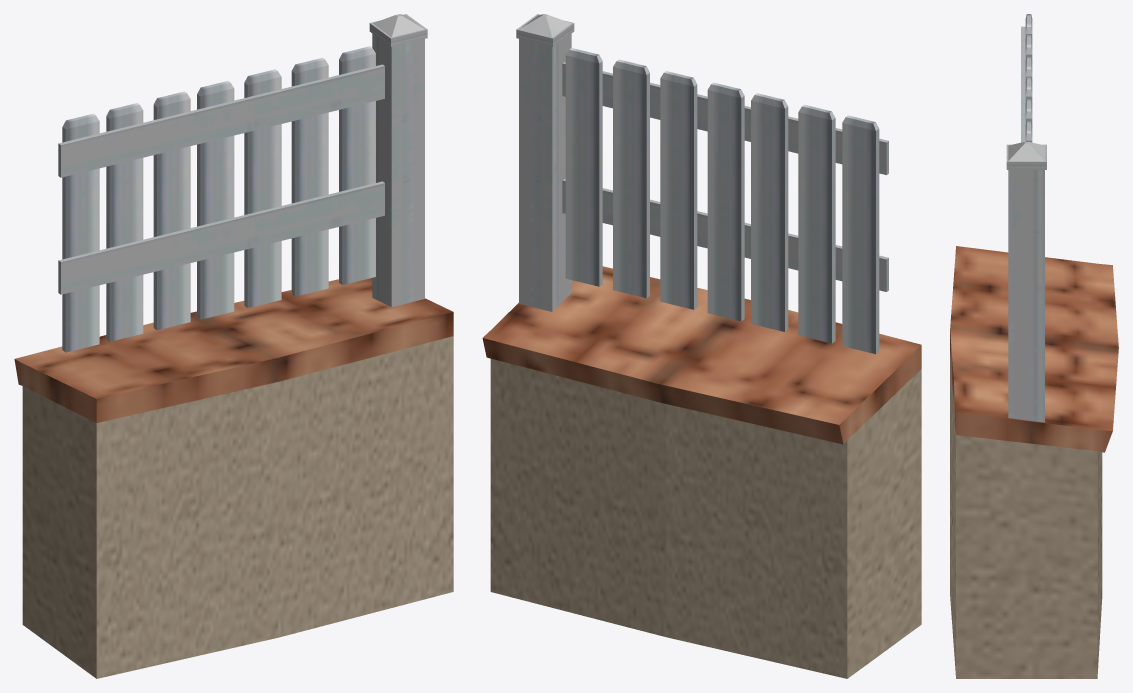
Rendered from Urban_PlasterWallHalfFenced_Model.fbx.
The picture shows the model from 3 angles, left to right: view 1: azimuth 30°, elevation 25°; view 2: azimuth 150°, elevation 25°; view 3: azimuth 270°, elevation 25°; orthographic projection. The views are drawn at different scales.
Visible parts, largest first — view 1: Urban_PlasterWallHalfFenced_Mesh; view 2: Urban_PlasterWallHalfFenced_Mesh; view 3: Urban_PlasterWallHalfFenced_Mesh.
Boxes of the visible parts, x1,y1,x2,y2 form: Urban_PlasterWallHalfFenced_Mesh: (14,14,453,678); Urban_PlasterWallHalfFenced_Mesh: (482,14,921,678); Urban_PlasterWallHalfFenced_Mesh: (950,14,1118,678).
Bounding box in the file's own units: 1.01 × 1.48 × 0.4296.
